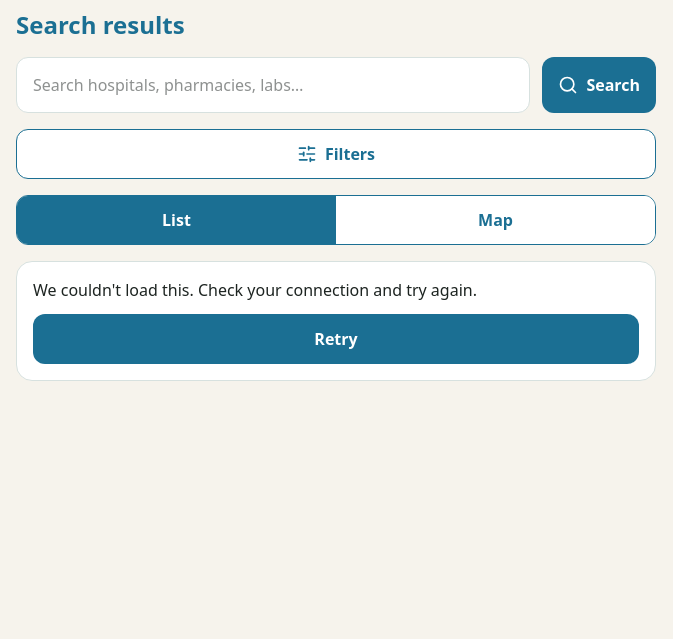
the /search page › shows the error with Retry for a server error, and Retry searches again
This screenshot has width=673, height=639.
Click the button "Retry" at (336, 339), box [33,314,639,364]
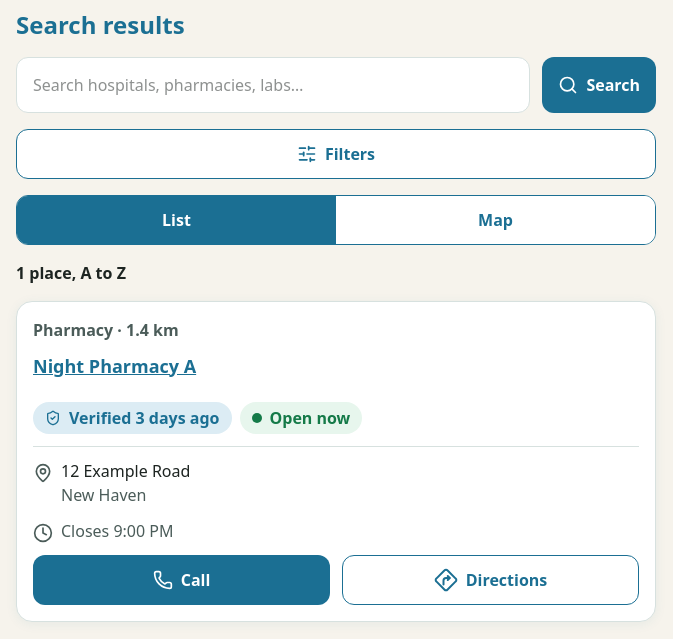
Expected: the element that starts with "Pharmacy · 1.4 km" is shown, [16,301,656,622]
